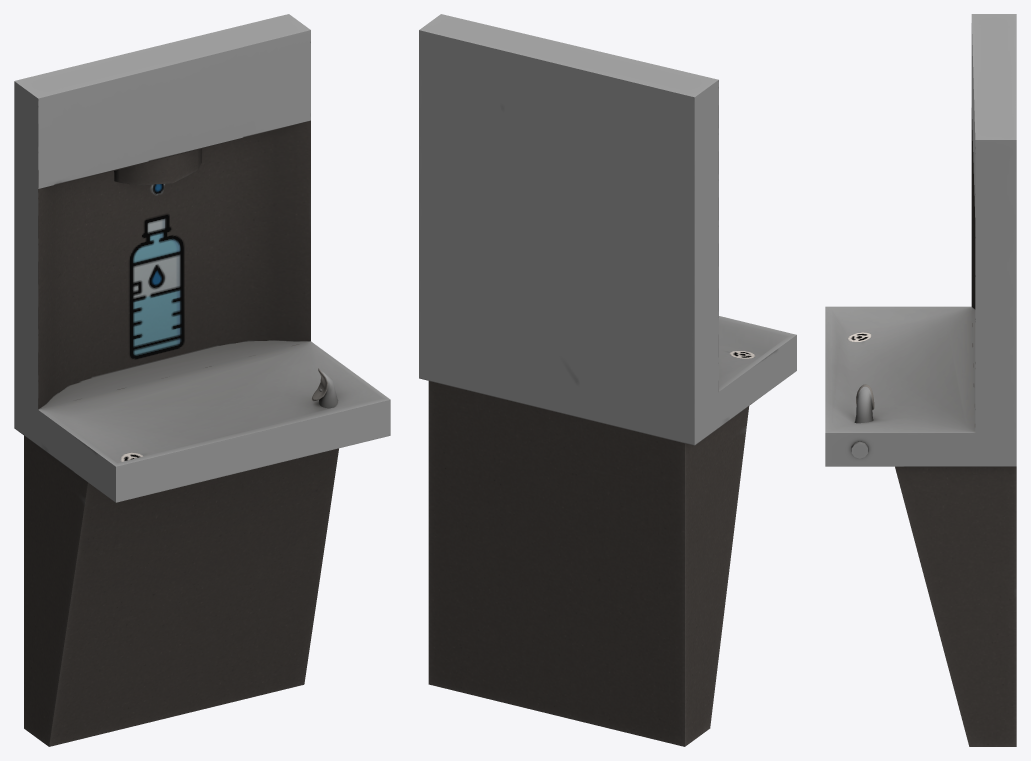
The model's file is water fountain.fbx.
3 renders of one model, left to right at view 1: azimuth 30°, elevation 25°; view 2: azimuth 150°, elevation 25°; view 3: azimuth 270°, elevation 25°, orthographic. The views are drawn at different scales.
Visible parts, largest first — view 1: water_fountain; view 2: water_fountain; view 3: water_fountain.
Boxes of the visible parts, x1=… form: water_fountain: x1=14, y1=14, x2=390, y2=746; water_fountain: x1=419, y1=14, x2=796, y2=746; water_fountain: x1=825, y1=14, x2=1016, y2=746.
Size of the model in its own units: 6.38 by 14.22 by 4.04.
1 material, 1 textured.
